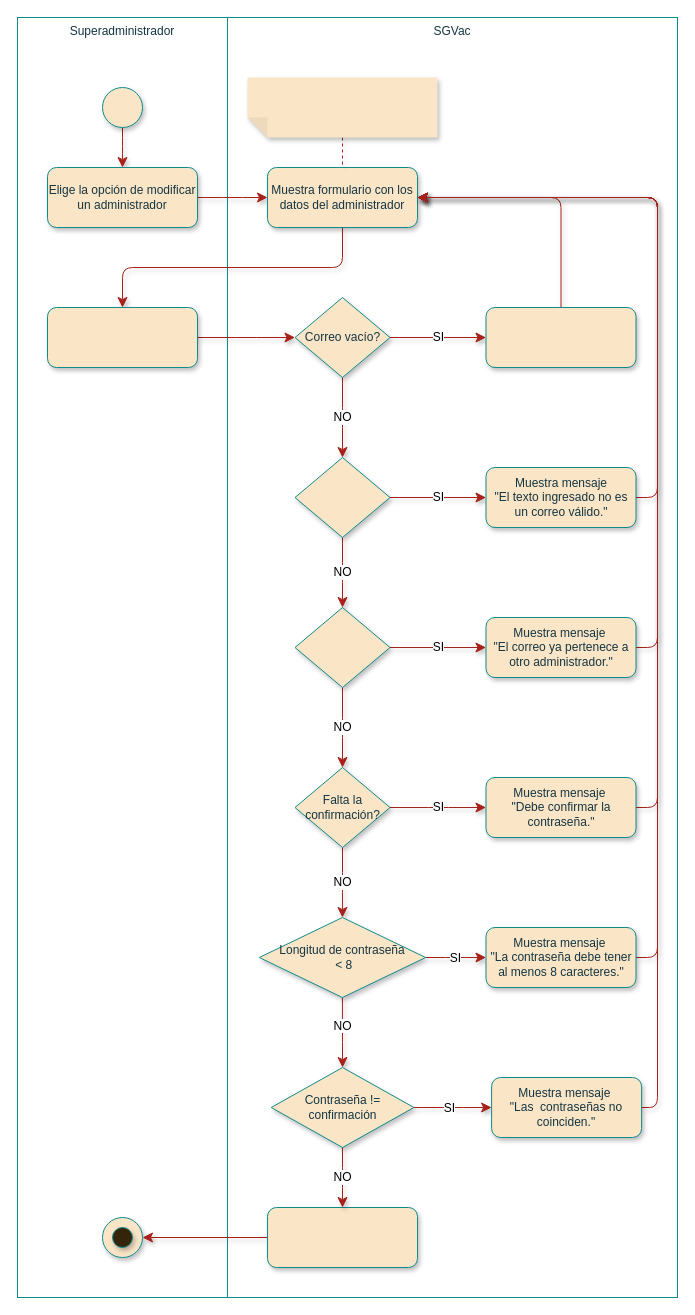
Some shapes in this 695 by 1315 pixel diagram are drawn without their labels. Here are the shapes that lost their labels. From the top down, the centre of each, then its label:
(x=343, y=108): Correo, empresa, contraseña, confirmar contraseña
(x=123, y=338): Ingresa datos y guarda cambios
(x=561, y=338): Muestra mensaje "El correo no puede estar vacío."
(x=343, y=498): Correo no válido?
(x=343, y=648): Ya existe el correo?
(x=343, y=1238): Modifica el administrador
